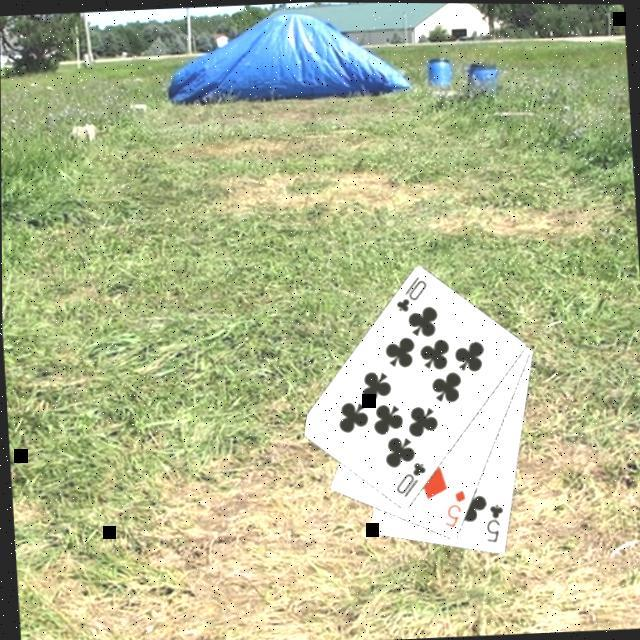10C: (390, 271, 430, 315), (390, 458, 430, 500)
5C: (480, 499, 506, 545)
5D: (438, 485, 468, 530)
